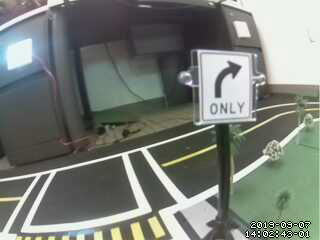Right_only_sign: (200, 50, 252, 124)
